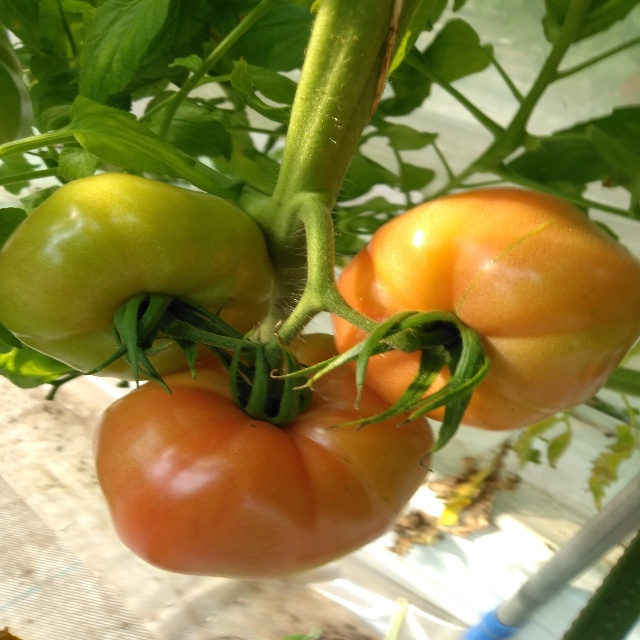b_green: (0, 172, 276, 381)
b_half_ripened: (91, 333, 435, 580), (330, 187, 640, 432)
